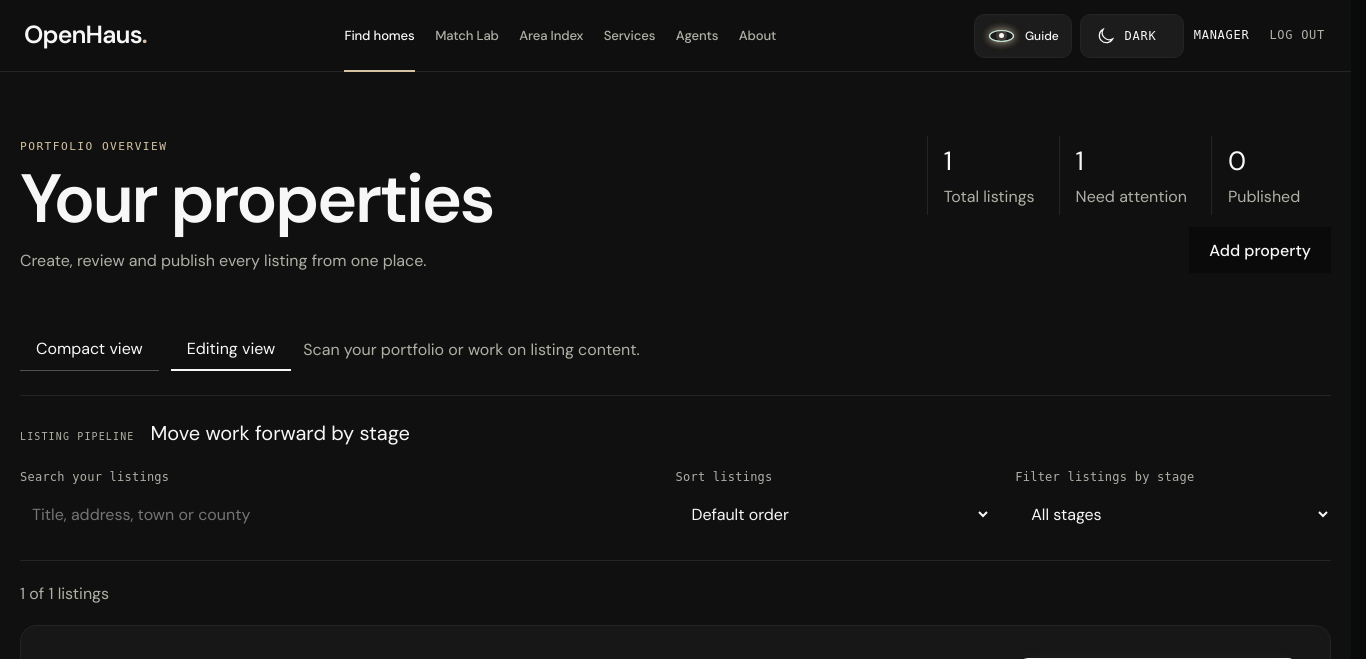
Scenario: manager application › keeps the authenticated workspace visible when logout is not confirmed
The width and height of the screenshot is (1366, 659).
Click the button "Log out". click: (1297, 36)
box: [1267, 14, 1327, 58]
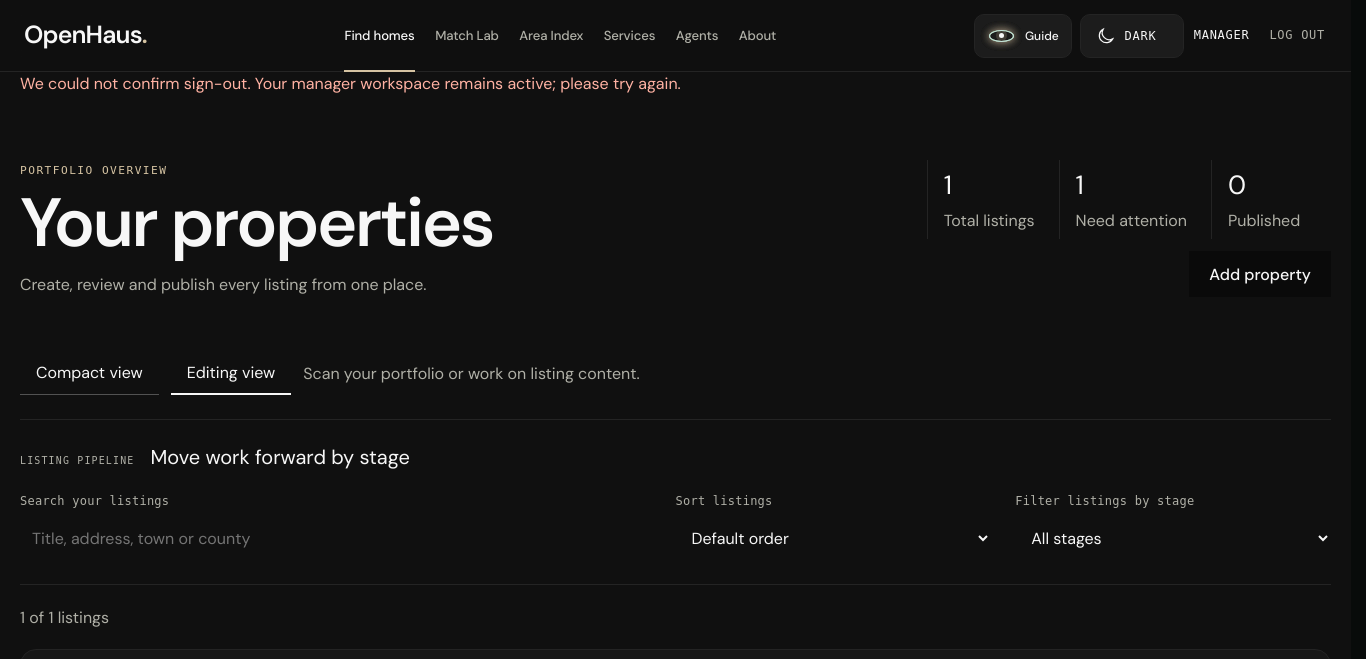
Expected: the button with aria-label "Manager account options" is shown, [1192, 14, 1251, 58]
Expected: the 1st message shows "could not confirm sign-out", [20, 73, 681, 94]
